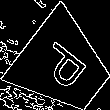P_SE: (33, 36, 94, 96)
